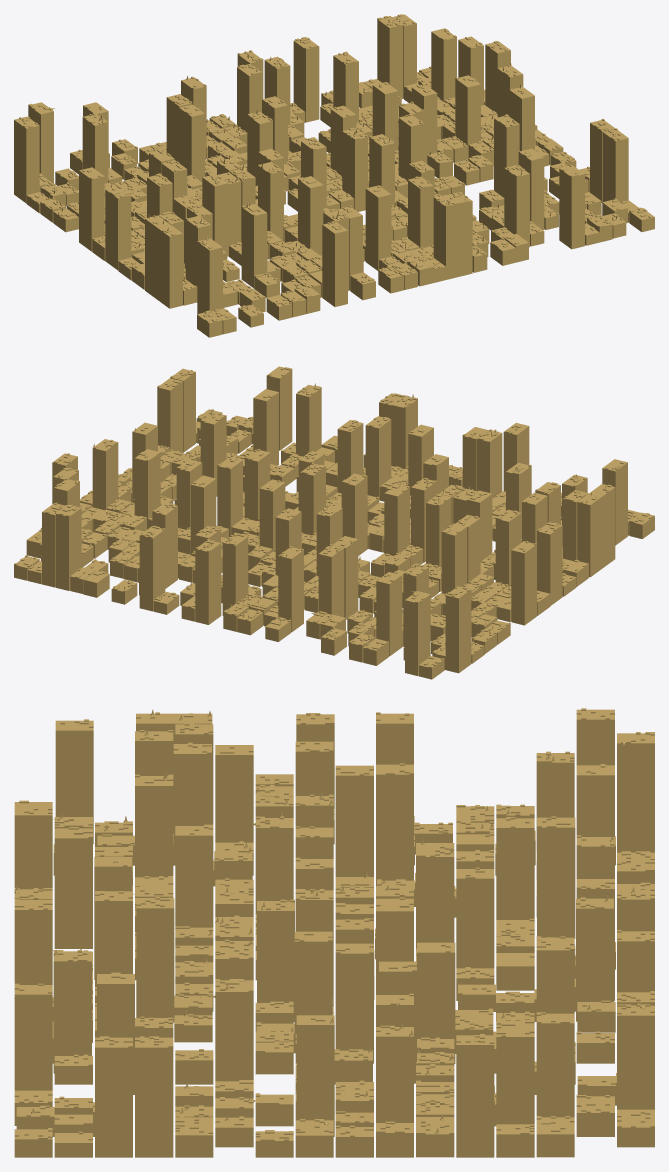
File: CityNodes.obj
The picture shows the model from 3 angles, top to bottom: view 1: azimuth 30°, elevation 25°; view 2: azimuth 150°, elevation 25°; view 3: azimuth 270°, elevation 25°; orthographic projection. The views are drawn at different scales.
Parts seen in each view (by area): view 1: Cube; view 2: Cube; view 3: Cube.
Boxes of the visible parts, x1,y1,x2,y2 form: Cube: (14, 14, 654, 337); Cube: (14, 366, 654, 679); Cube: (14, 708, 654, 1157).
Bounding box in the file's own units: 15.98 × 2.7 × 12.97.
